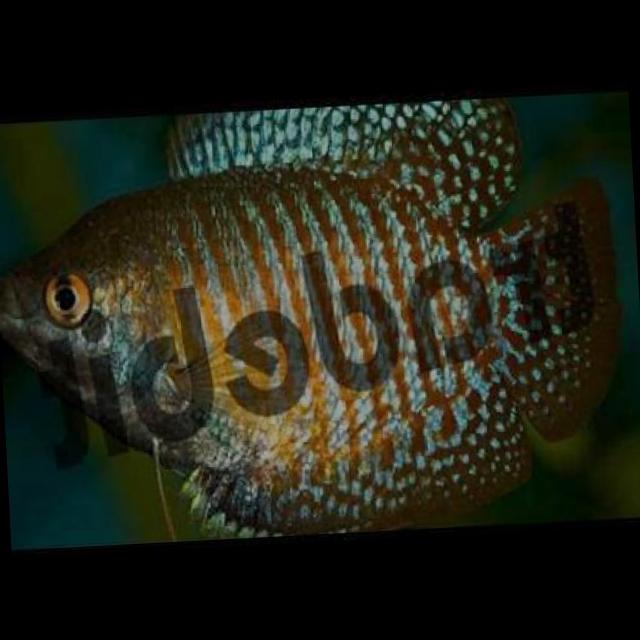Gourami: (0, 90, 630, 548)
